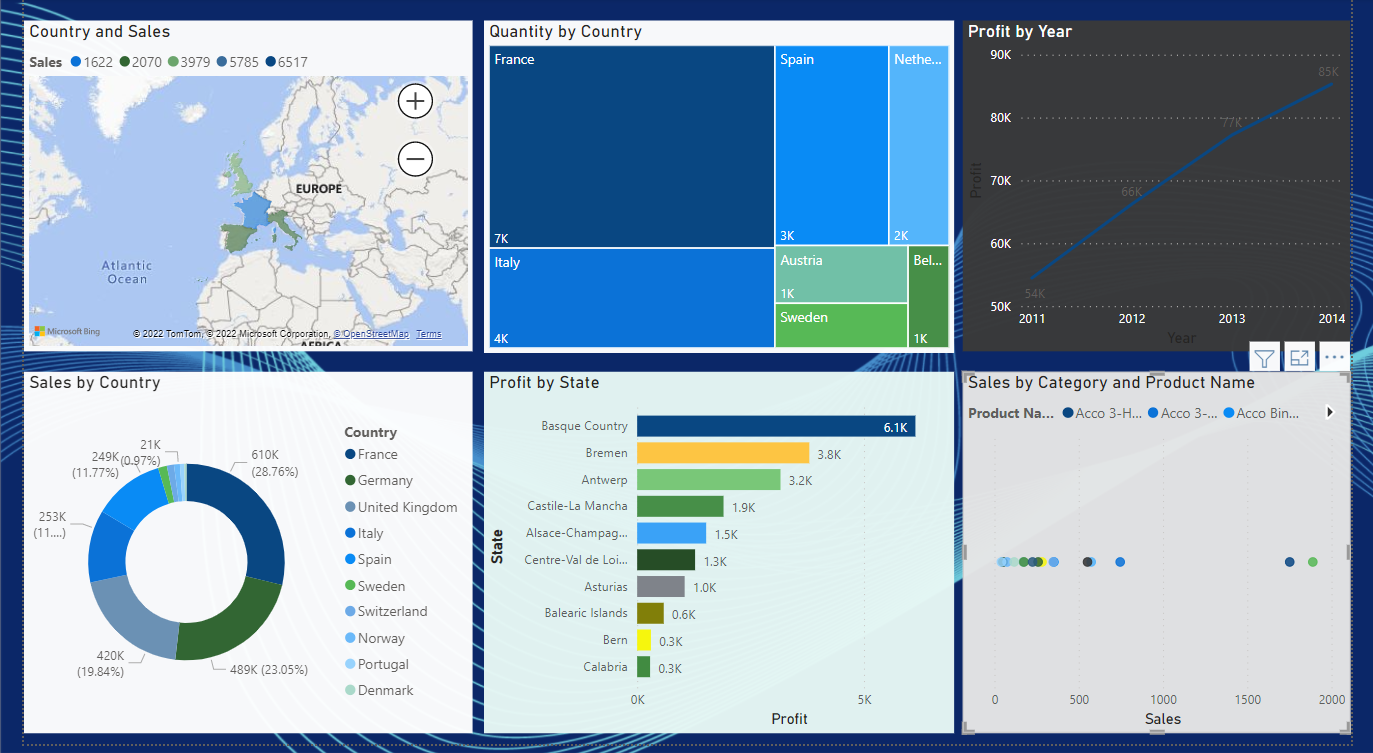

The page's visual inventory and layout, read from the dashboard file:
{"tool":"powerbi","page":{"name":"Page 1","canvas":[1280,720],"ordinal":0},"visuals":[{"type":"filledMap","fields":{"Category":["ListOfOrders.Country"],"Series":["OrderBreakdown.Sales"]},"box":[0,9.6,432.6,310.4],"z":0},{"type":"donutChart","fields":{"Category":["ListOfOrders.Country"],"Y":["Sum(OrderBreakdown.Sales)"]},"box":[0,342,432.6,348.8],"z":1000},{"type":"treemap","fields":{"Group":["ListOfOrders.Country"],"Values":["Sum(OrderBreakdown.Quantity)"]},"box":[443.6,4.1,453.2,337.9],"z":1001},{"type":"lineChart","fields":{"Category":["ListOfOrders.Order Date.Variation.Date Hierarchy.Year","ListOfOrders.Order Date.Variation.Date Hierarchy.Quarter","ListOfOrders.Order Date.Variation.Date Hierarchy.Month","ListOfOrders.Order Date.Variation.Date Hierarchy.Day"],"Y":["Sum(OrderBreakdown.Profit)"]},"box":[905.7,3.6,373.7,338],"z":1002},{"type":"clusteredBarChart","fields":{"Category":["ListOfOrders.State"],"Y":["Sum(OrderBreakdown.Profit)"]},"box":[443.6,359.8,453.2,331],"z":1003},{"type":"scatterChart","fields":{"Category":["OrderBreakdown.Category"],"Series":["OrderBreakdown.Product Name"],"X":["Sum(OrderBreakdown.Sales)"]},"box":[906,360,374,331],"z":1004}]}

Visuals, with their boxes in screenshot pixels (x1, y1, x2, y2), scaled from the page's 1280x720 canvas onto the 1373x753 screenshot:
filledMap - ListOfOrders.Country x OrderBreakdown.Sales: 0,10,464,335
donutChart - ListOfOrders.Country x Sum(OrderBreakdown.Sales): 0,358,464,722
treemap - ListOfOrders.Country x Sum(OrderBreakdown.Quantity): 476,4,962,358
lineChart - ListOfOrders.Order Date.Variation.Date Hierarchy.Year x ListOfOrders.Order Date.Variation.Date Hierarchy.Quarter: 972,4,1372,357
clusteredBarChart - ListOfOrders.State x Sum(OrderBreakdown.Profit): 476,376,962,722
scatterChart - OrderBreakdown.Category x OrderBreakdown.Product Name: 972,376,1372,723
